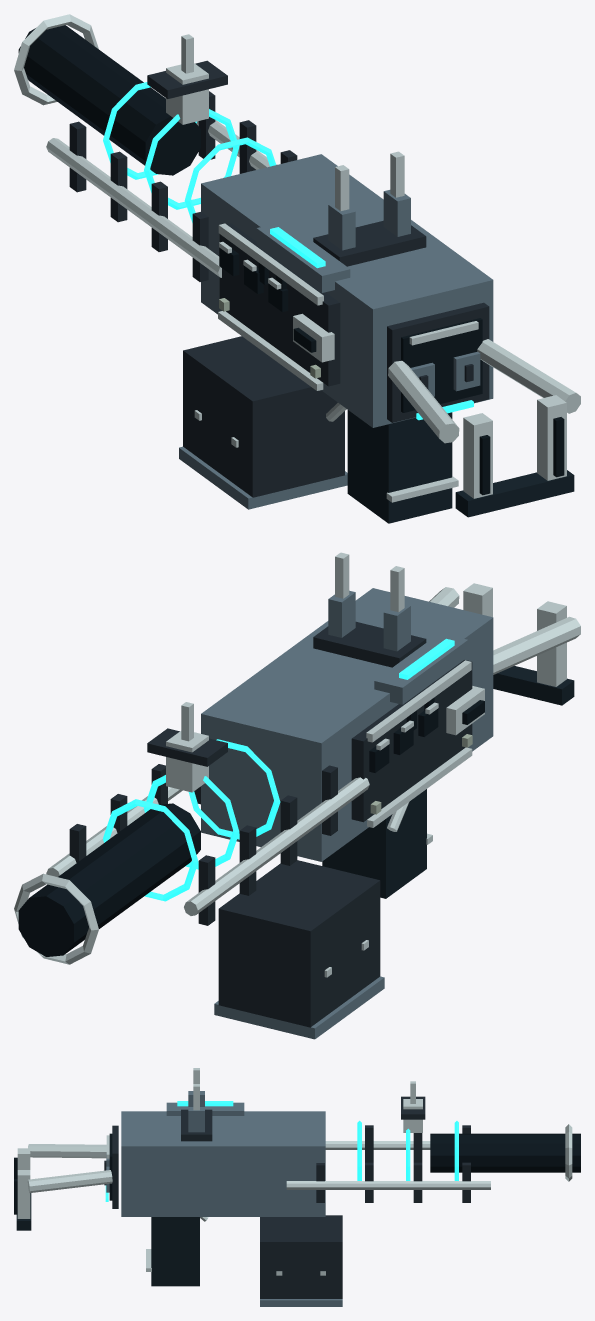
File: world-0.glb
3 views of the same model, one above another, from view 1: azimuth 30°, elevation 25°; view 2: azimuth 150°, elevation 25°; view 3: azimuth 270°, elevation 25° (orthographic). The views are drawn at different scales.
Visible parts, largest first — view 1: body-light, body-trim, feed-dark, body-dark, barrel-assembly-cavity, body-rubber, body-cavity, body-glow, feed-light, bolt-trim; view 2: body-light, feed-dark, body-trim, body-dark, barrel-assembly-cavity, body-rubber, body-glow, feed-light, body-cavity, bolt-trim; view 3: body-light, body-trim, feed-dark, barrel-assembly-cavity, body-rubber, body-dark, body-glow, feed-light, body-cavity.
Boxes of the visible parts, x1,y1,x2,y2 form: body-light: (201,154,493,427); body-trim: (14,14,580,502); feed-dark: (183,336,344,497); body-dark: (69,60,489,422); barrel-assembly-cavity: (18,25,200,175); body-rubber: (347,410,574,523); body-cavity: (219,247,564,495); body-glow: (103,82,473,420); feed-light: (179,446,347,509); bolt-trim: (293,313,334,362); body-light: (201,588,493,861); feed-dark: (218,860,380,1027); body-trim: (14,552,580,964); body-dark: (69,621,472,925); barrel-assembly-cavity: (18,803,200,956); body-rubber: (322,666,574,898); body-glow: (103,638,454,901); feed-light: (214,976,384,1039); body-cavity: (369,697,438,772); bolt-trim: (446,686,484,735); body-light: (106,1091,325,1216); body-trim: (17,1068,572,1271); feed-dark: (260,1215,342,1298); barrel-assembly-cavity: (430,1133,580,1172); body-rubber: (16,1193,199,1286); body-dark: (104,1096,470,1208); body-glow: (105,1101,458,1201); feed-light: (260,1299,342,1306); body-cavity: (14,1133,112,1214).
Bounding box in the file's own units: 0.2295 × 0.4995 × 1.17.
